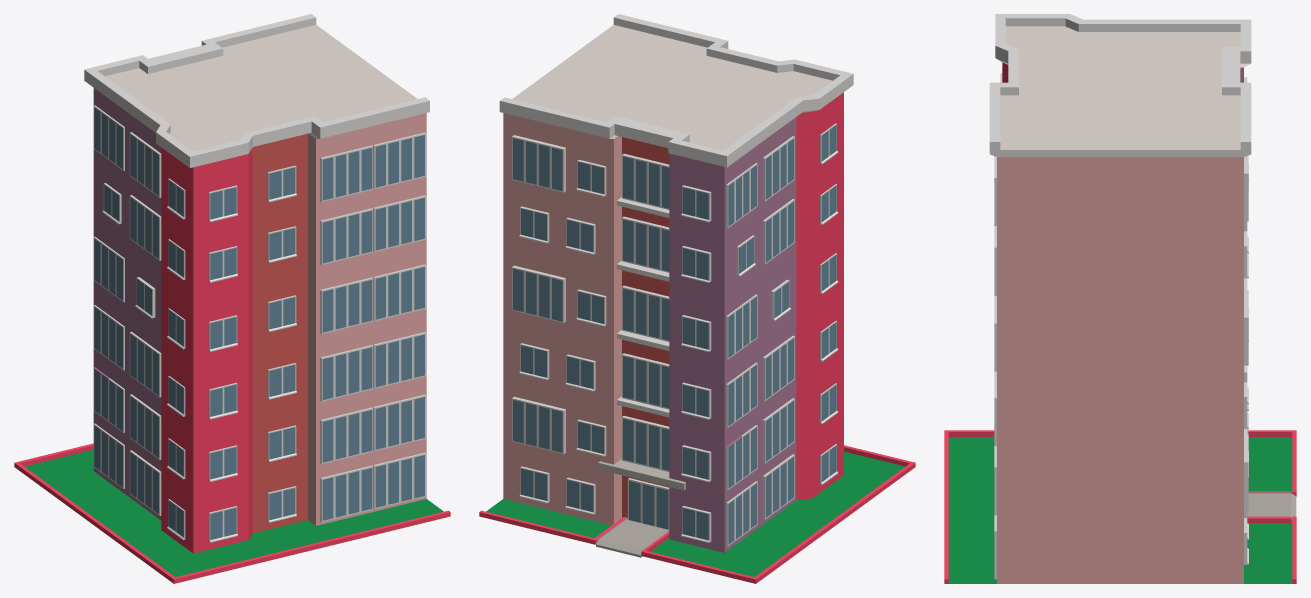
Rendered from apartment_edge_High.fbx.
3 renders of one model, left to right at view 1: azimuth 30°, elevation 25°; view 2: azimuth 150°, elevation 25°; view 3: azimuth 270°, elevation 25°, orthographic. The views are drawn at different scales.
Visible parts, largest first — view 1: Appartment, Ground; view 2: Appartment, Ground; view 3: Appartment, Ground.
Part boxes in pixels (<box>): Appartment: <box>84,14,429,553</box>; Ground: <box>14,443,450,583</box>; Appartment: <box>499,14,853,552</box>; Ground: <box>479,445,915,583</box>; Appartment: <box>989,14,1251,583</box>; Ground: <box>944,430,1296,583</box>.
Size of the model in its own units: 20 by 27.8 by 20.
